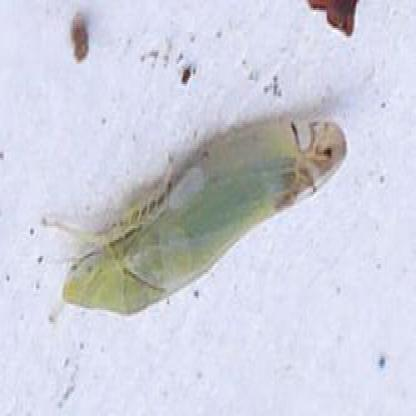green-leafhopper: (46, 122, 348, 306)
